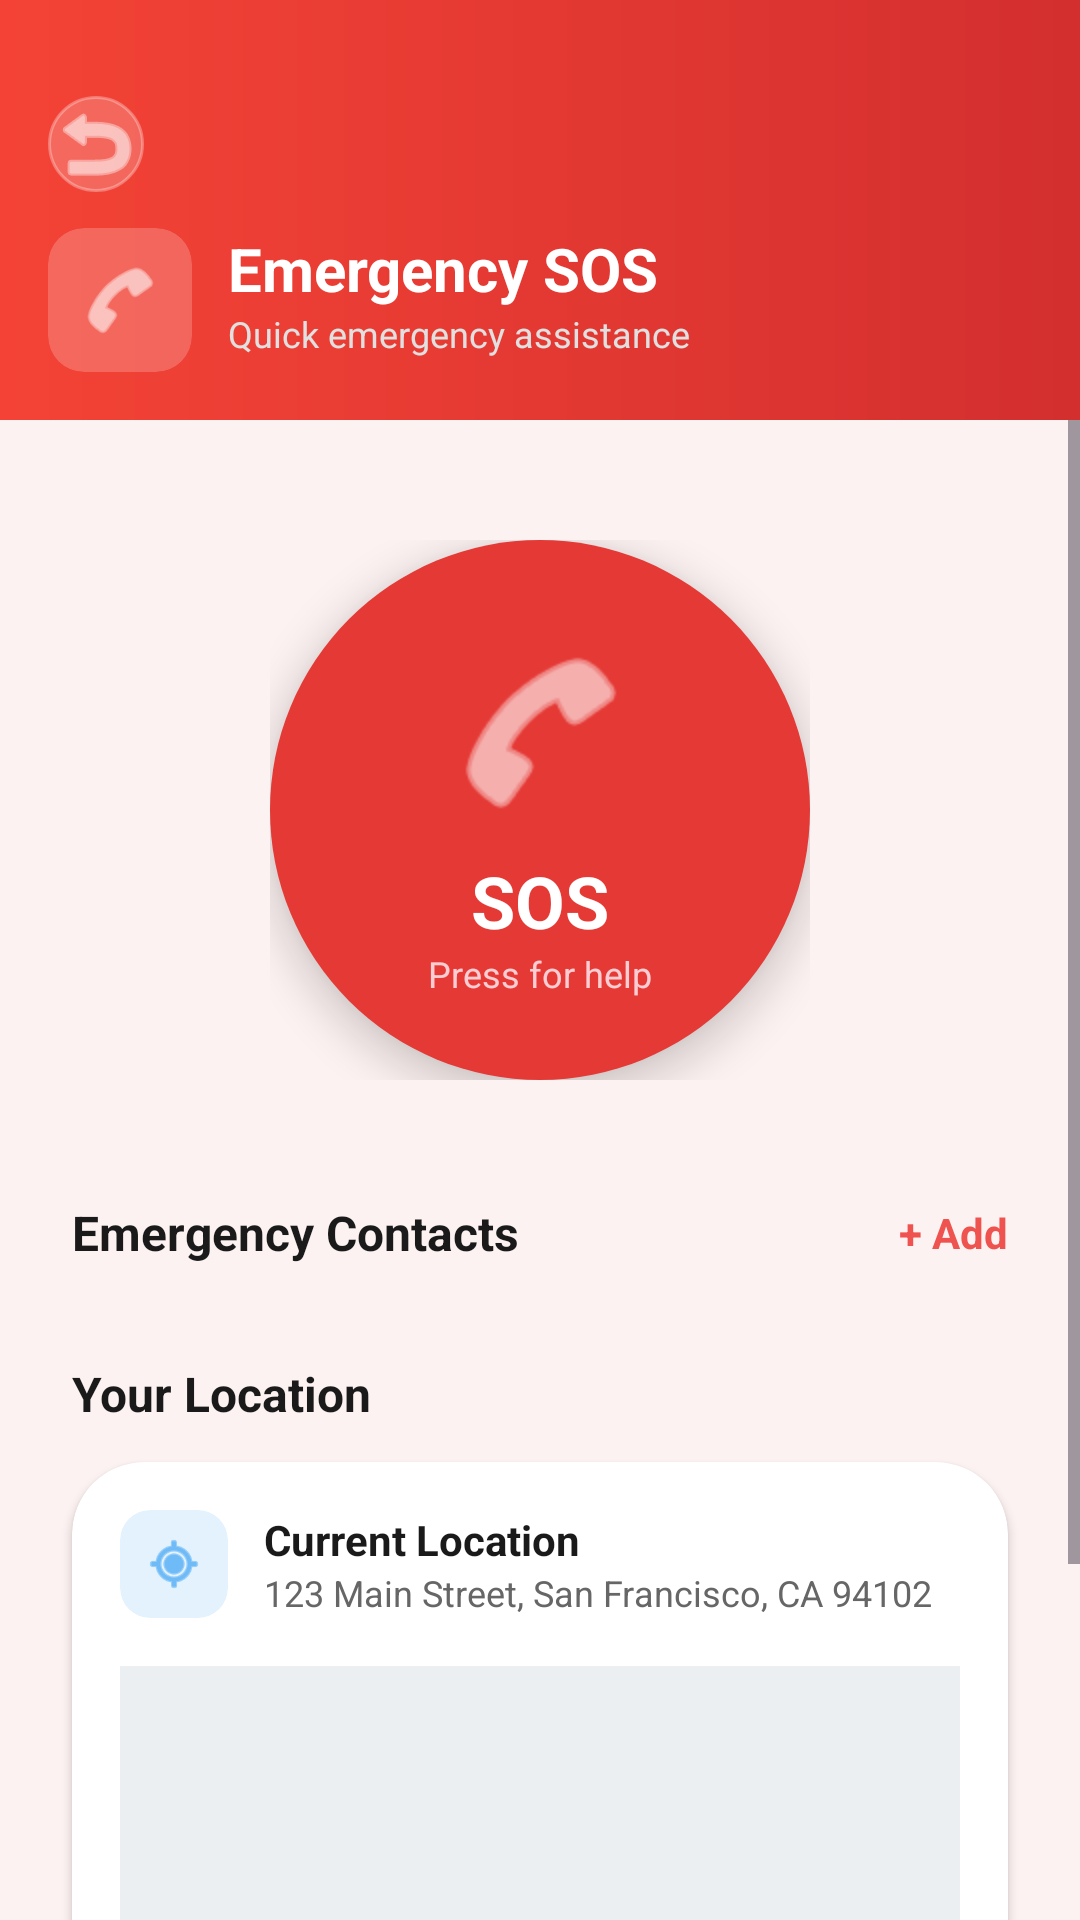

Icons on this 1080 x 1920 Android screen, each with the point to tap as [x,y]:
call: [120,300], [541,733]
mylocation: [174,1564]
revert: [96,144]
